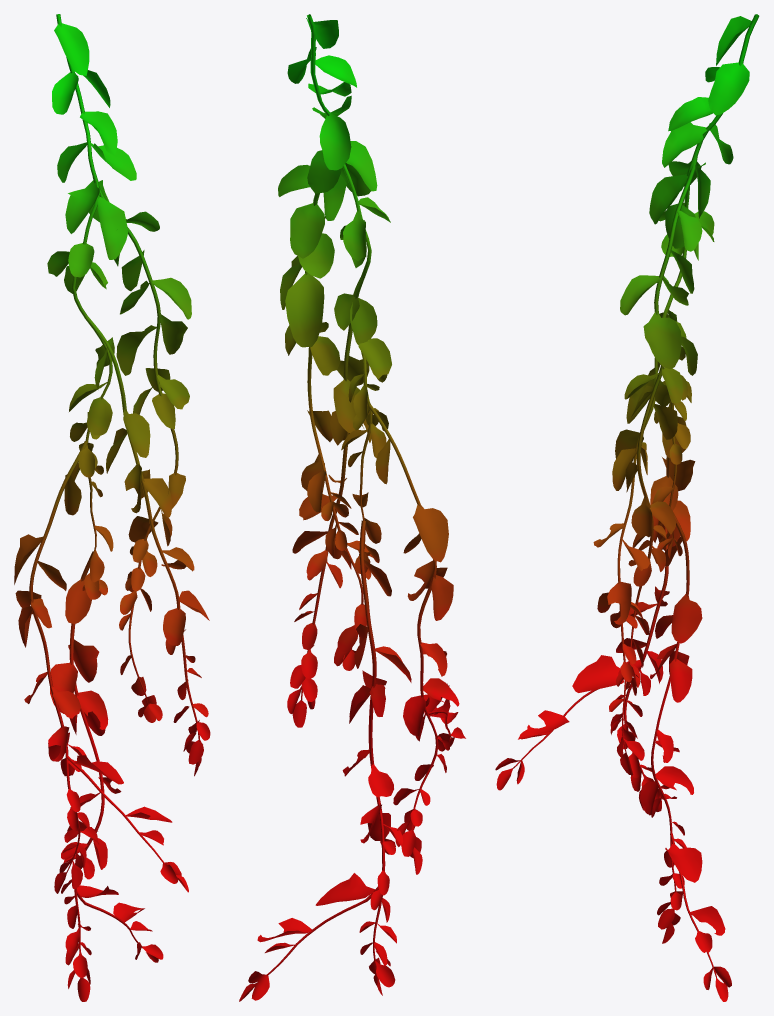
File: Var10_LOD0.fbx
The picture shows the model from 3 angles, left to right: view 1: azimuth 30°, elevation 25°; view 2: azimuth 150°, elevation 25°; view 3: azimuth 270°, elevation 25°; orthographic projection. The views are drawn at different scales.
Parts seen in each view (by area): view 1: _sm0h_Var10_LOD0; view 2: _sm0h_Var10_LOD0; view 3: _sm0h_Var10_LOD0.
Boxes of the visible parts, x1,y1,x2,y2 form: _sm0h_Var10_LOD0: (14,14,210,1001); _sm0h_Var10_LOD0: (239,14,465,1001); _sm0h_Var10_LOD0: (495,14,759,1001).
Bounding box in the file's own units: 23.73 × 129 × 32.55.
